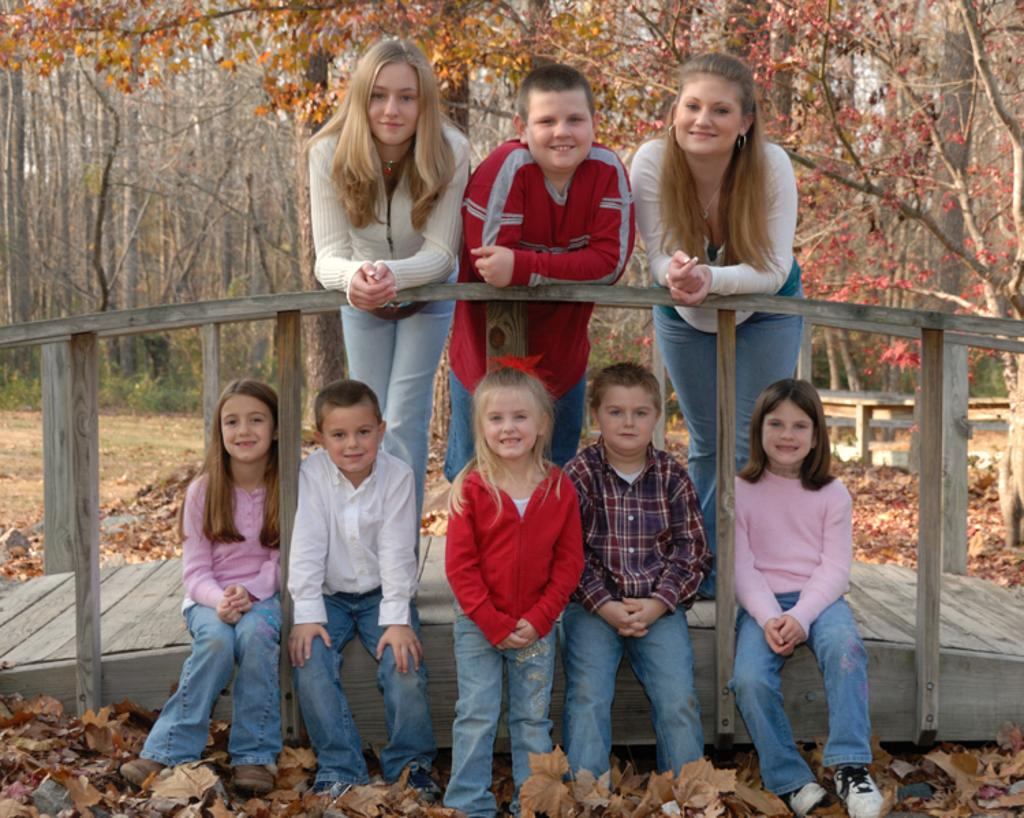face: (527, 99, 592, 167), (675, 87, 740, 153), (365, 73, 423, 143), (481, 399, 538, 456), (321, 414, 378, 469), (600, 393, 654, 449), (222, 404, 272, 461), (763, 409, 813, 462)
